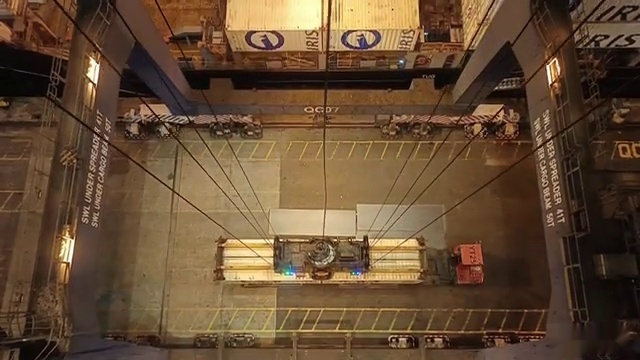container: (206, 234, 437, 289), (220, 0, 426, 56), (207, 0, 435, 26), (213, 0, 438, 24), (214, 0, 430, 24), (213, 0, 437, 14), (210, 0, 439, 13), (220, 1, 418, 15)
guide_mark: (60, 309, 546, 333), (110, 142, 537, 162)
spreader: (202, 230, 437, 289)
target_slot: (190, 229, 454, 293)
